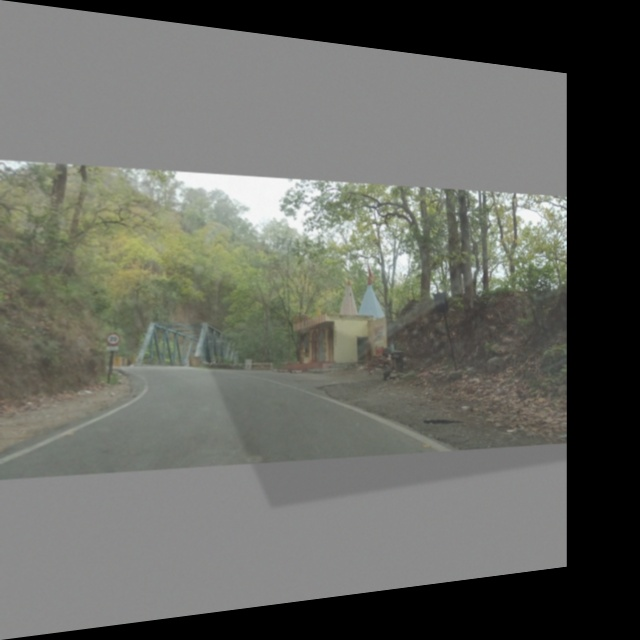Speed_Limit_20: (105, 329, 124, 347)
